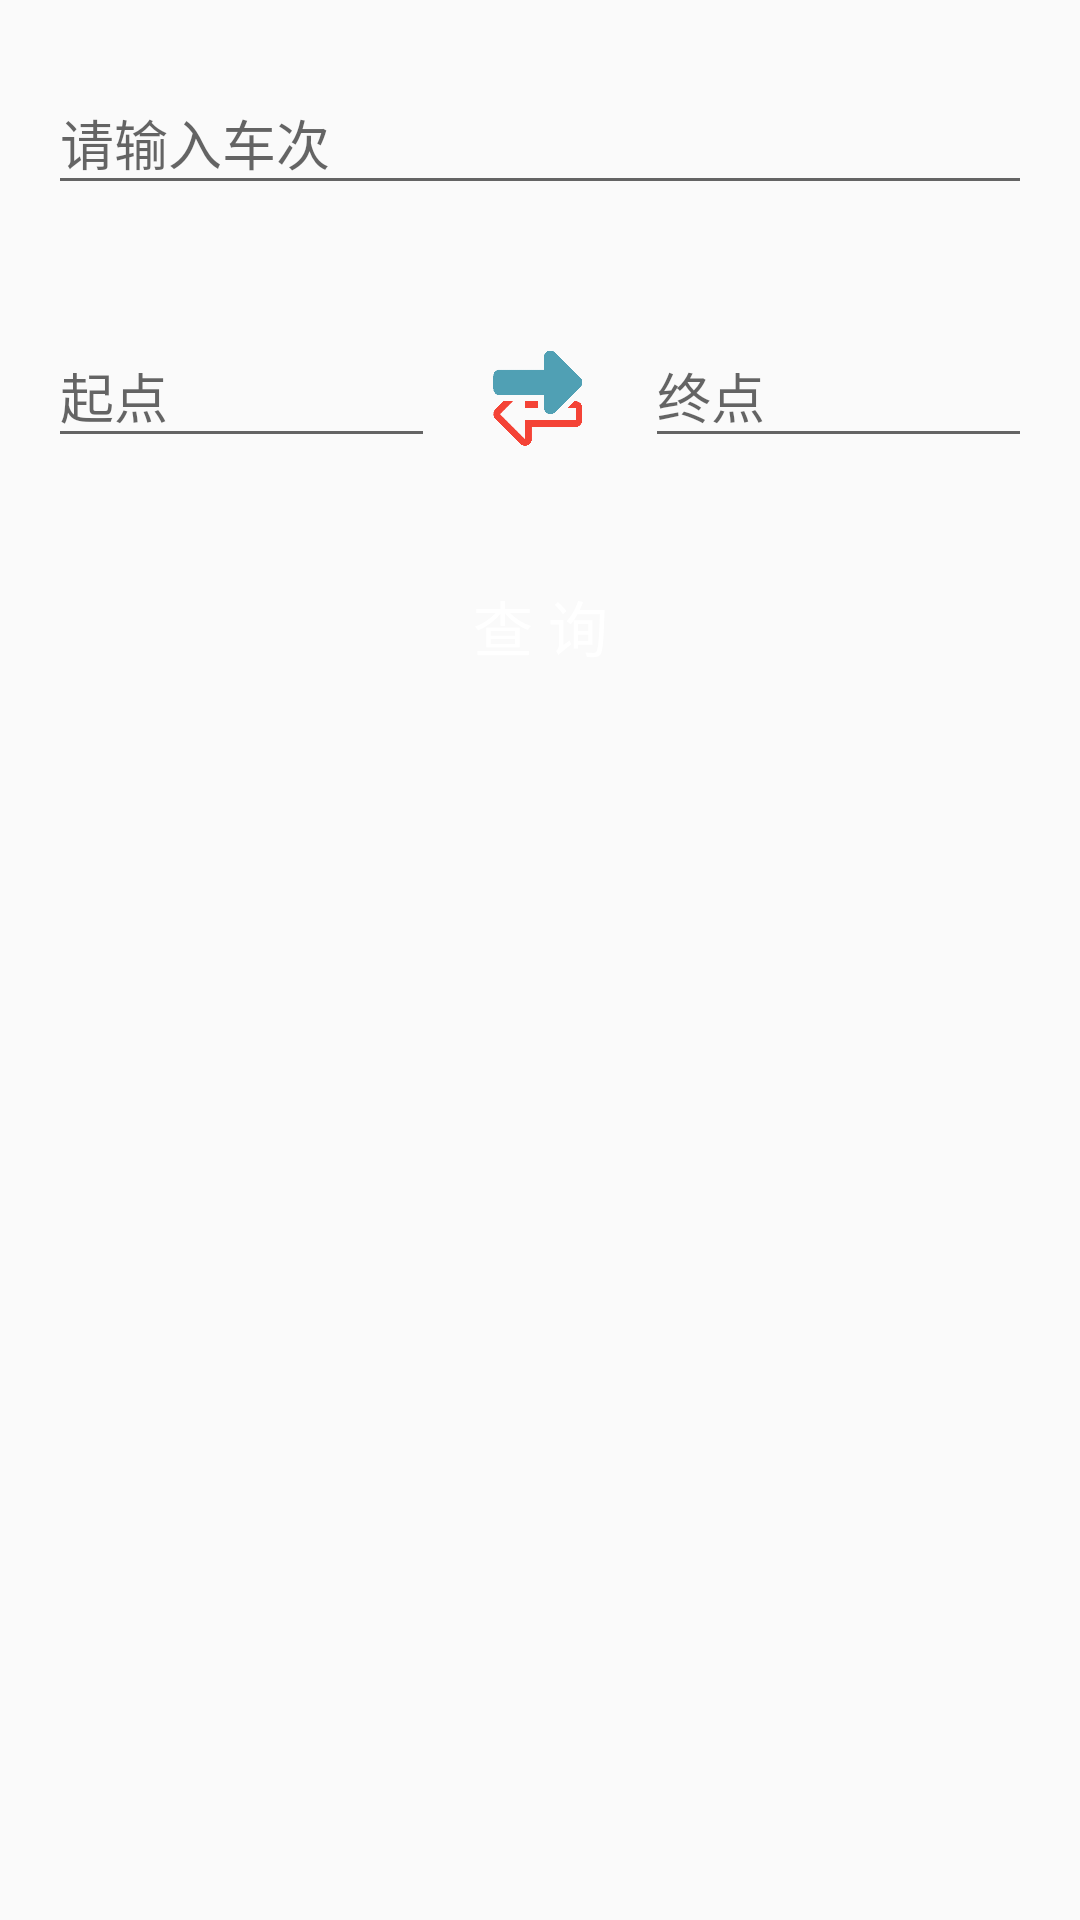

Icon click points for this 1080px x 1920px phone screenshot, format point (x, y):
exchange arrow: point (537, 398)
